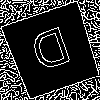D: (27, 26, 78, 82)
